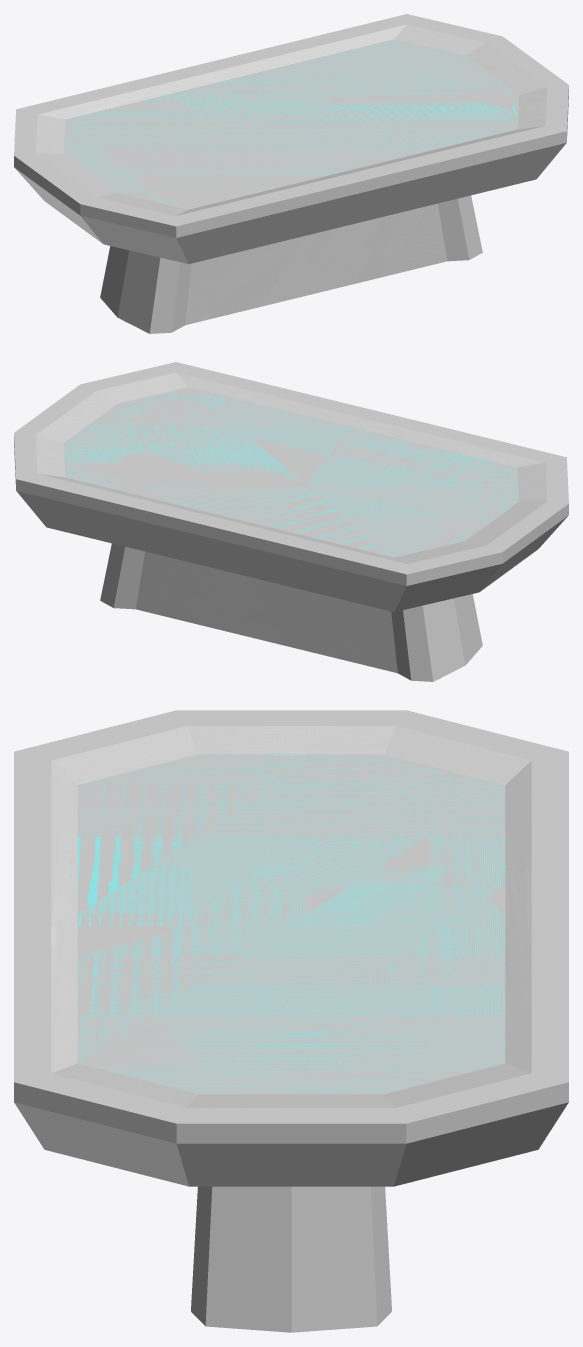
Rendered from scifi_holo_table_long_white_01.fbx.
3 views of the same model, one above another, from view 1: azimuth 30°, elevation 25°; view 2: azimuth 150°, elevation 25°; view 3: azimuth 270°, elevation 25° (orthographic). The views are drawn at different scales.
Parts seen in each view (by area): view 1: Model; view 2: Model; view 3: Model.
Boxes of the visible parts, x1,y1,x2,y2 form: Model: (14,14,568,333); Model: (14,362,568,681); Model: (14,710,568,1332).
Size of the model in its own units: 368 by 112 by 209.
